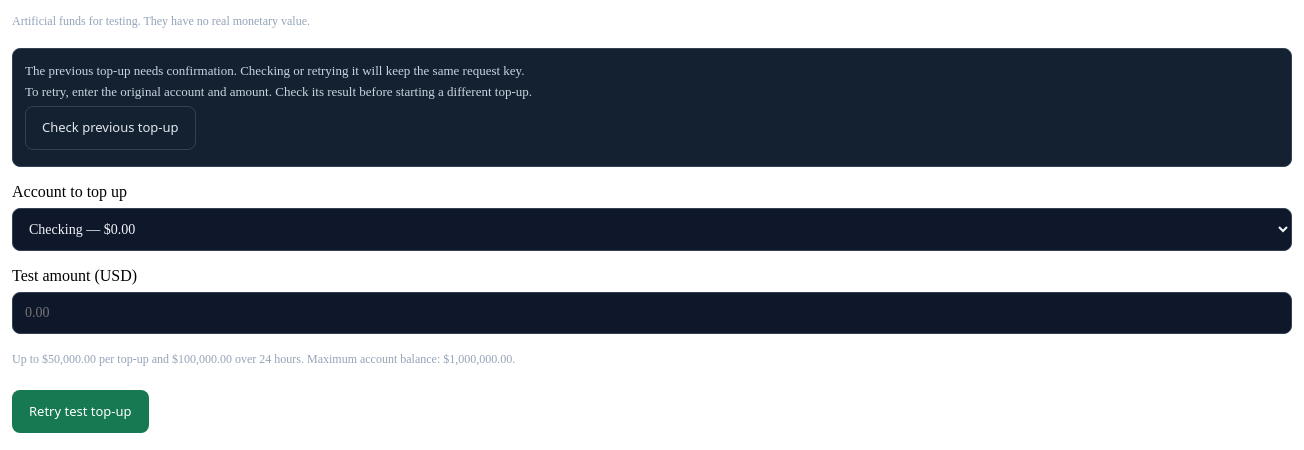
Test: recovers a result after a tab closes using only the saved opaque key
Click the button "Check previous top-up": (110,128) [25,106,196,150]
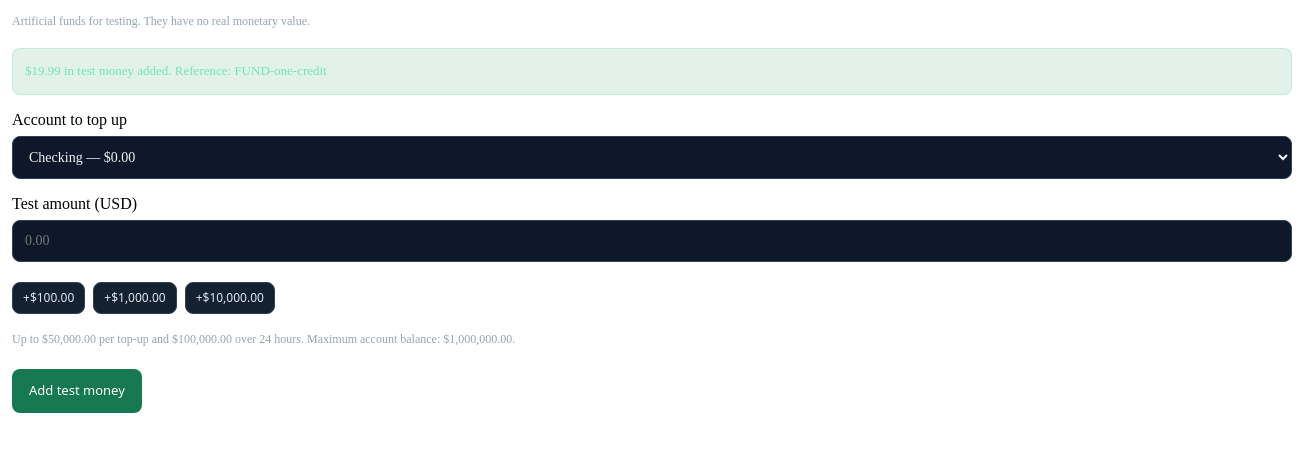
Now the text "$19.99 in test money added. Reference: FUND-one-credit" is shown, box [12,48,1292,95]
